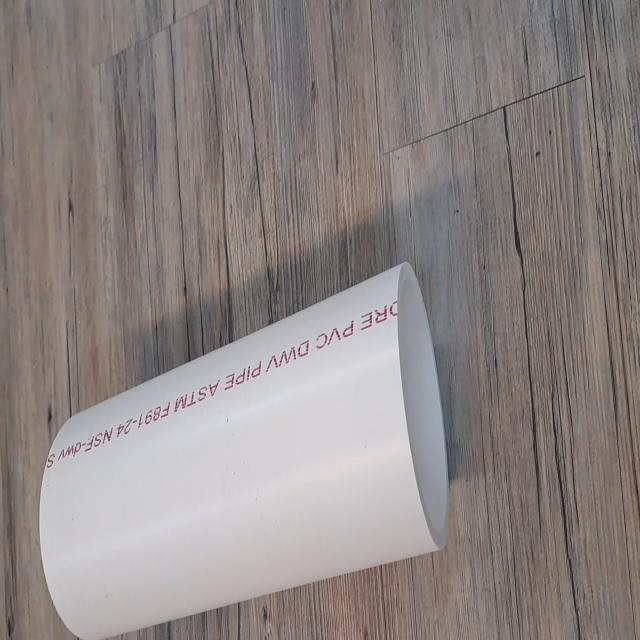CORAL: (25, 255, 454, 640)
